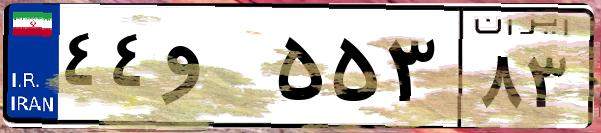3: (385, 28, 445, 110), (525, 38, 570, 115)
4: (57, 26, 110, 100), (110, 28, 158, 98)
5: (270, 28, 330, 110), (330, 28, 385, 110)
8: (475, 38, 525, 113)
و: (158, 20, 270, 120)
